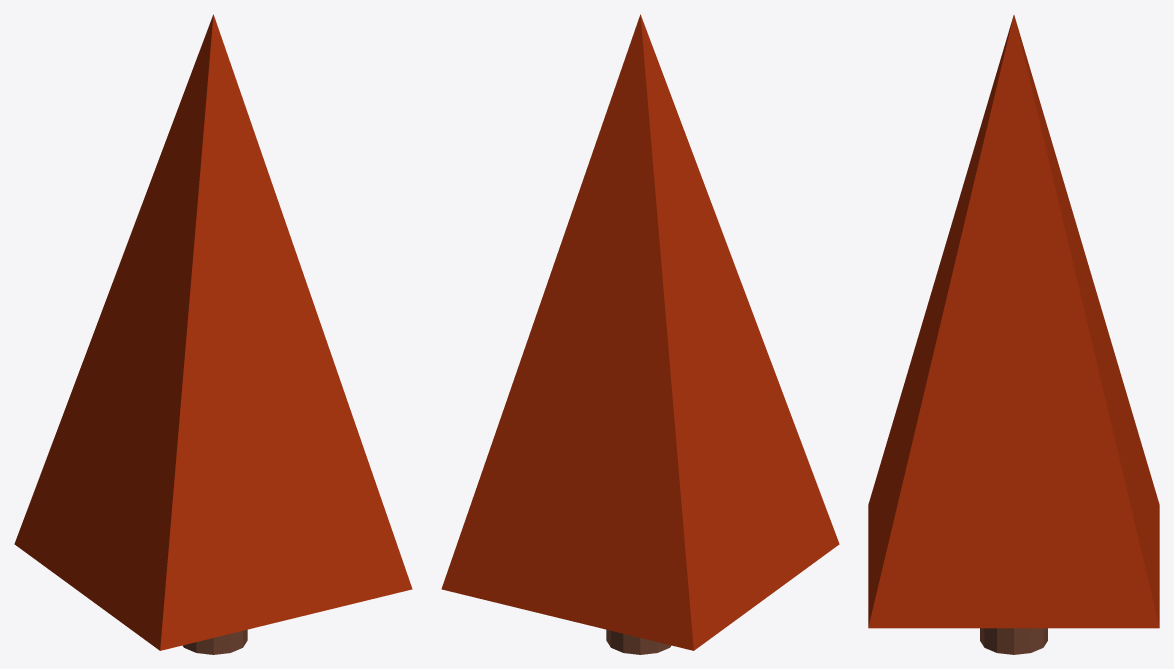
File: Tree_36_summer_red_vc.fbx
The picture shows the model from 3 angles, left to right: view 1: azimuth 30°, elevation 25°; view 2: azimuth 150°, elevation 25°; view 3: azimuth 270°, elevation 25°; orthographic projection.
Parts seen in each view (by area): view 1: Tree_36_summer_red_vc; view 2: Tree_36_summer_red_vc; view 3: Tree_36_summer_red_vc.
Boxes of the visible parts, bbox=[...] form: Tree_36_summer_red_vc: bbox=[14, 14, 412, 654]; Tree_36_summer_red_vc: bbox=[441, 14, 839, 654]; Tree_36_summer_red_vc: bbox=[868, 15, 1159, 654].
Size of the model in its own units: 69.07 by 164 by 69.07.
